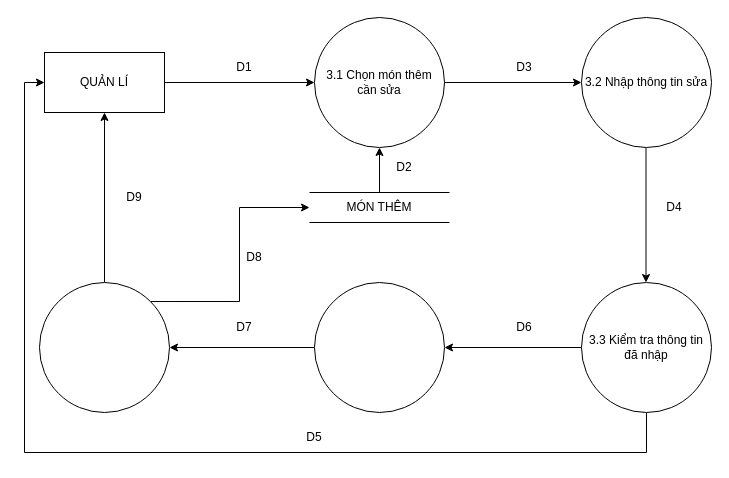
The diagram is 729 pixels wide and 478 high, and some of its shapes have lost their labels. Here are the shapes that lost their labels. From the top down, the box of each, then its label:
(38, 282, 170, 412): 3.5 Cập nhật thông tin
(314, 282, 444, 412): 3.4 Xử lý thông tin đã nhập
